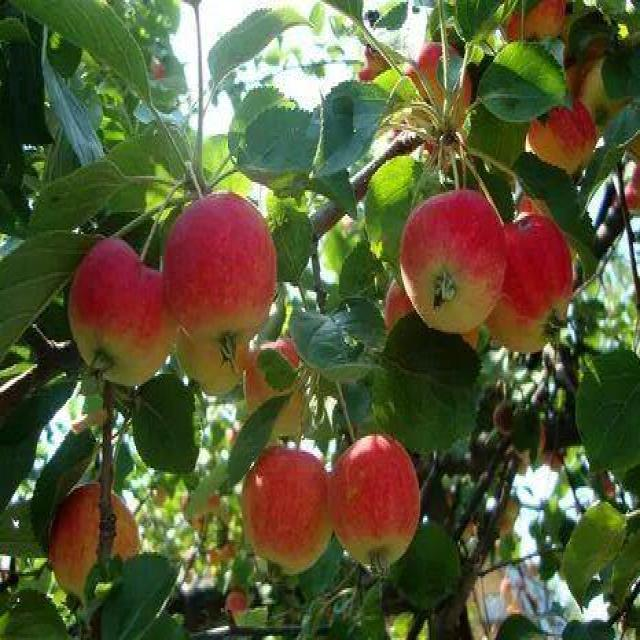Rotten Apple: (165, 196, 274, 348), (398, 185, 506, 333), (67, 239, 168, 389), (331, 434, 417, 574), (241, 445, 329, 581)
